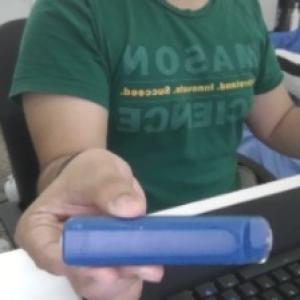Diamond-E-Ciggirate: (61, 211, 277, 267)
